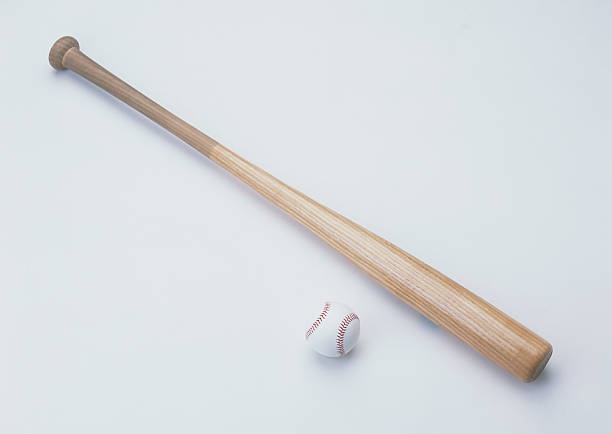bita: (50, 35, 538, 376)
